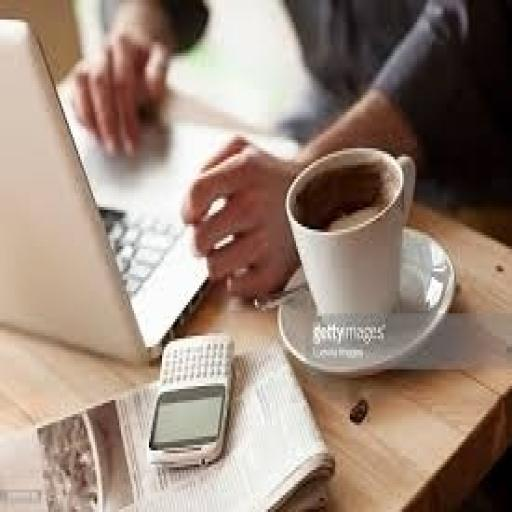using_laptop: (0, 14, 220, 367)
